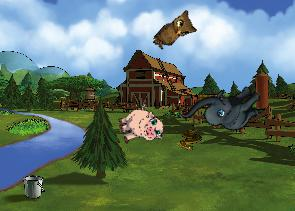elephant: (180, 64, 268, 153)
owl: (150, 6, 202, 59)
pig: (114, 101, 166, 151)
